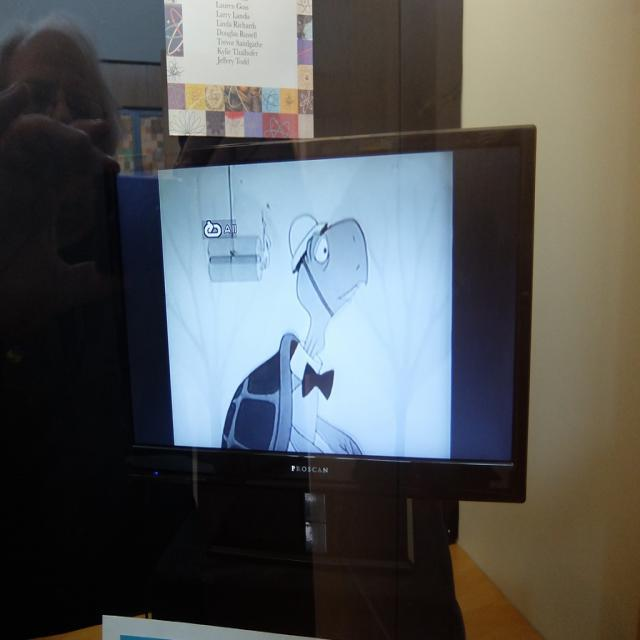others: (80, 119, 593, 638)
